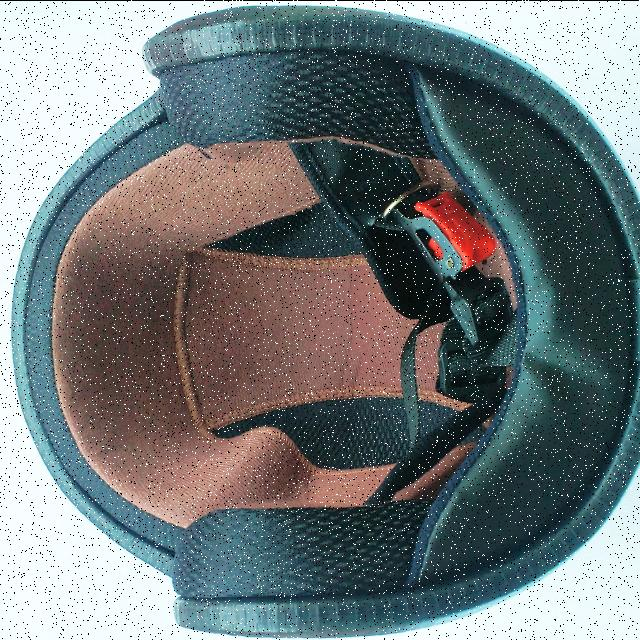Helmet: (12, 6, 640, 634)
